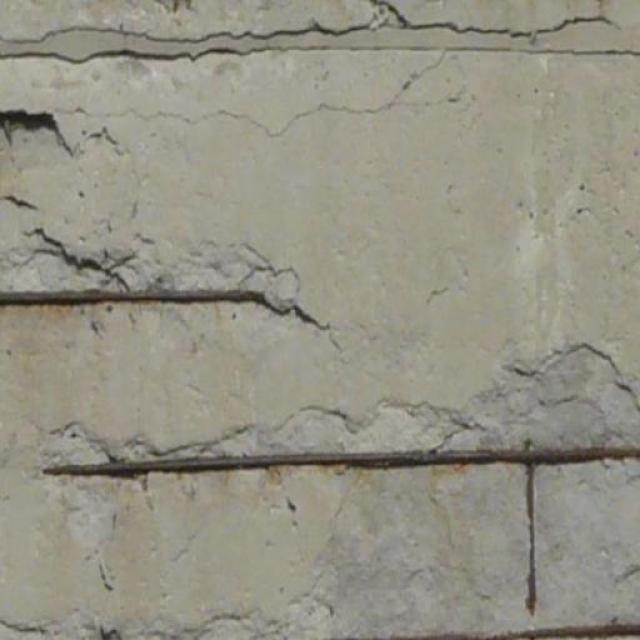D0w0: (42, 346, 639, 614), (0, 226, 329, 330)
